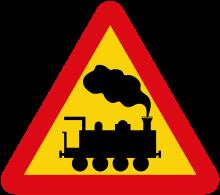Barrier Ahead: (10, 8, 212, 189)
